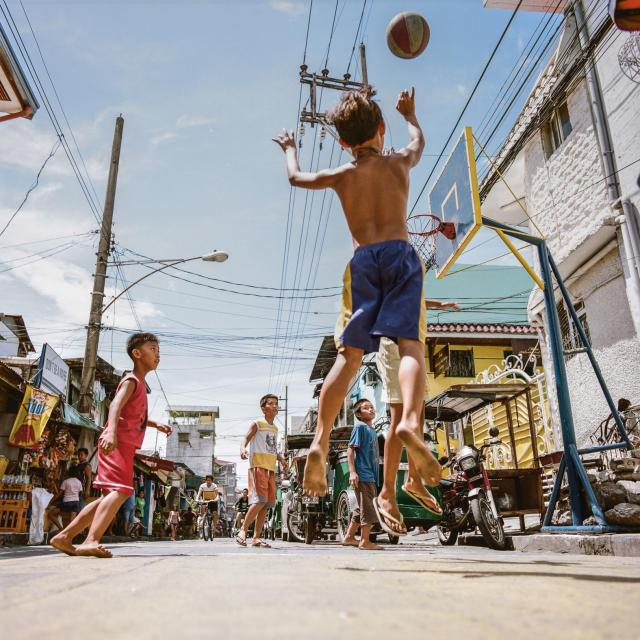body: (269, 81, 445, 499), (48, 332, 160, 558), (372, 298, 462, 538), (234, 393, 289, 548), (342, 397, 388, 551), (81, 512, 277, 539), (46, 465, 84, 533), (0, 461, 67, 495), (194, 474, 220, 533), (75, 447, 92, 536), (122, 477, 139, 538), (232, 488, 252, 534), (128, 509, 148, 538), (181, 506, 198, 540), (134, 490, 146, 536), (167, 503, 181, 542), (168, 516, 178, 538), (412, 526, 427, 534)
